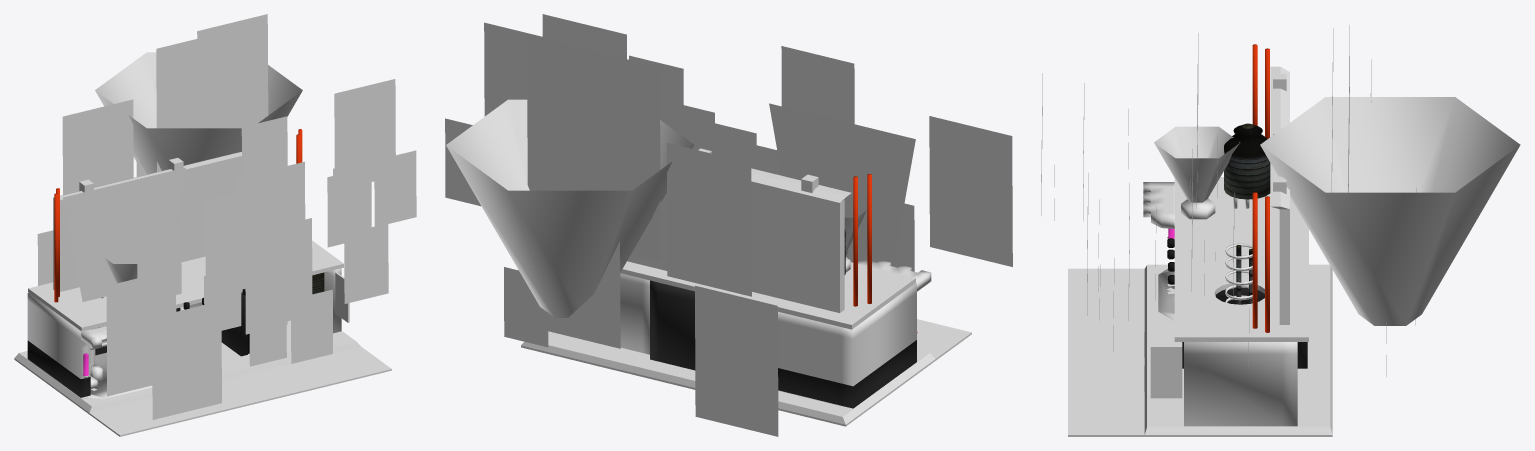
Rendered from city.fbx.
3 renders of one model, left to right at view 1: azimuth 30°, elevation 25°; view 2: azimuth 150°, elevation 25°; view 3: azimuth 270°, elevation 25°, orthographic. The views are drawn at different scales.
Parts seen in each view (by area): view 1: Cube.022, Plane.012, Plane.030, Cylinder.027, Plane.016, Plane.026, Cube.023, Plane.032, Plane.036, Plane.015, Cube, Plane.013 (+18 smaller); view 2: Cylinder.027, Plane.013, Cube.023, Cube.022, Plane.012, Plane.026, Cube, Plane.030, Plane.025, Plane.032, Cube.016, Plane.036 (+12 smaller); view 3: Cube.022, Cylinder.027, Cube.021, Cylinder.026, Cylinder.018, Cube.023, Cube.032, Cylinder.020, Cube.001, Cylinder.019, Cube.016, Slo (+3 smaller).
Boxes of the visible parts, <box> form: Cube.022: <box>14,240,391,436</box>; Plane.012: <box>63,167,185,301</box>; Plane.030: <box>106,269,176,396</box>; Cylinder.027: <box>95,52,302,174</box>; Plane.016: <box>197,14,268,128</box>; Plane.026: <box>62,99,133,194</box>; Cube.023: <box>53,152,241,291</box>; Plane.032: <box>205,186,266,289</box>; Plane.036: <box>334,79,395,181</box>; Plane.015: <box>152,305,221,419</box>; Cube: <box>27,293,152,398</box>; Plane.013: <box>156,39,197,171</box>; Cylinder.027: <box>446,99,694,317</box>; Plane.013: <box>527,35,660,261</box>; Cube.023: <box>627,168,851,312</box>; Cube.022: <box>521,261,971,426</box>; Plane.012: <box>769,103,915,262</box>; Plane.026: <box>666,143,751,296</box>; Cube: <box>778,283,916,408</box>; Plane.030: <box>929,116,1012,266</box>; Plane.025: <box>695,285,778,436</box>; Plane.032: <box>781,46,854,123</box>; Cube.016: <box>650,280,695,370</box>; Plane.036: <box>484,22,542,116</box>; Cube.022: <box>1068,177,1332,436</box>; Cylinder.027: <box>1260,97,1520,325</box>; Cube.021: <box>1184,342,1297,426</box>; Cylinder.026: <box>1154,126,1240,202</box>; Cylinder.018: <box>1224,123,1270,199</box>; Cube.023: <box>1270,66,1289,324</box>; Cube.032: <box>1150,346,1182,398</box>; Cylinder.020: <box>1252,192,1269,332</box>; Cube.001: <box>1143,182,1174,228</box>; Cylinder.019: <box>1252,44,1269,138</box>; Cube.016: <box>1182,287,1307,368</box>; Slo: <box>1225,243,1252,302</box>.
Size of the model in its own units: 2354 by 1664 by 1989.
